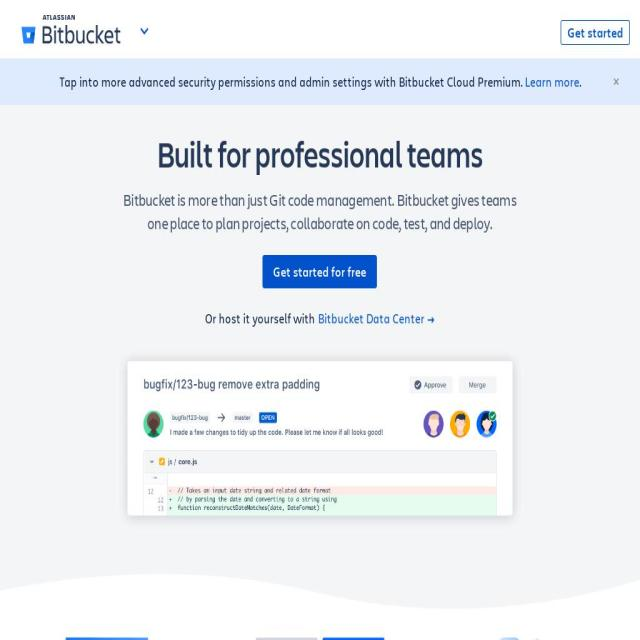button: (10, 4, 132, 54), (262, 255, 378, 288), (561, 19, 630, 45), (318, 312, 435, 325), (138, 4, 151, 54)
heading: (116, 132, 524, 175)
image: (116, 348, 524, 531), (0, 570, 640, 612), (10, 14, 132, 44), (255, 637, 385, 640), (483, 637, 583, 640), (65, 637, 148, 640), (427, 317, 435, 323)
link: (524, 72, 580, 90)
text: (116, 188, 524, 235), (59, 72, 525, 90), (205, 308, 318, 328), (318, 309, 425, 327), (579, 72, 581, 90)
